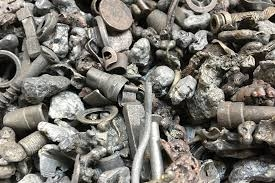metal: (126, 78, 171, 183), (209, 93, 275, 133), (79, 65, 141, 105), (91, 1, 143, 36), (11, 6, 46, 58), (1, 101, 54, 135), (72, 102, 120, 133), (205, 10, 245, 39), (16, 125, 50, 158), (1, 44, 23, 91)
